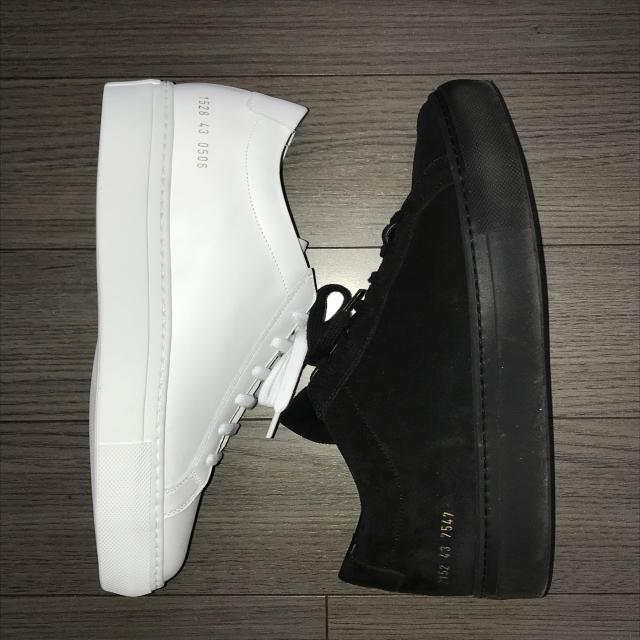shoe: (284, 76, 561, 605), (84, 74, 320, 599)
